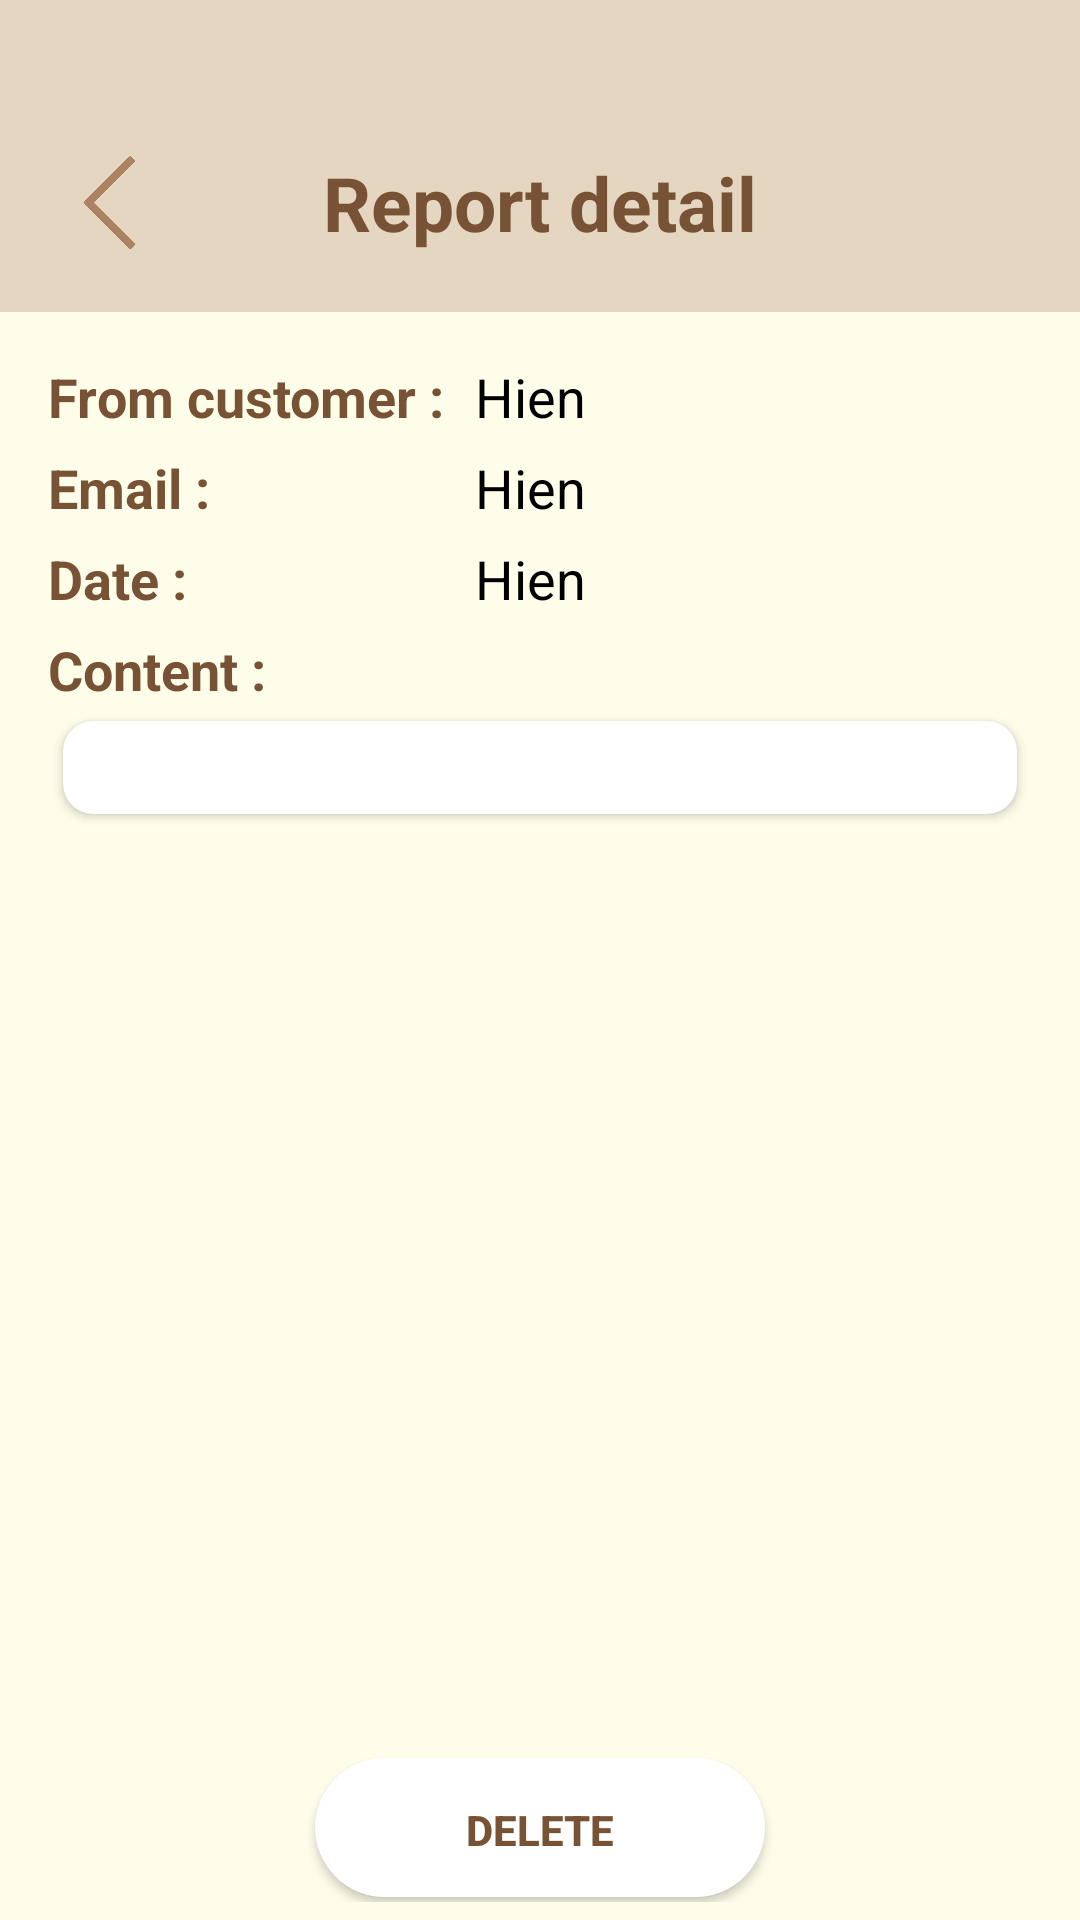

Screen size 1080x1920. Icon name, then its center in pixels as (x,y):
back: (109,202)
